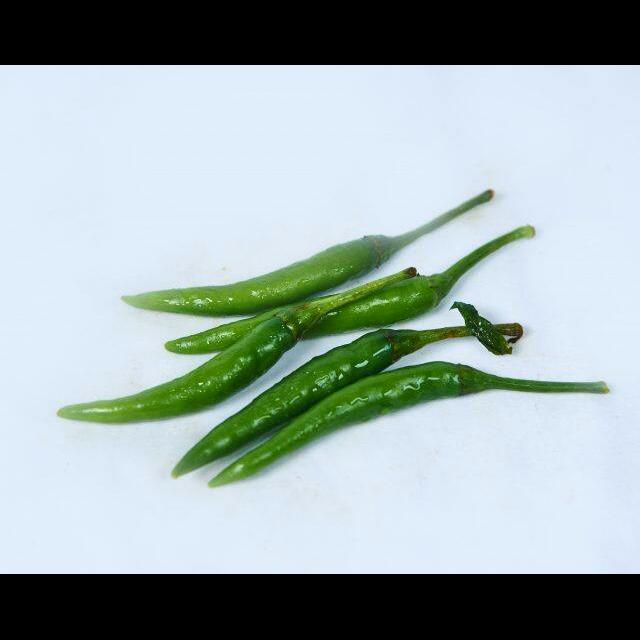chili_pepper: (209, 362, 610, 488), (122, 190, 494, 316), (172, 326, 471, 478), (57, 318, 298, 424)
